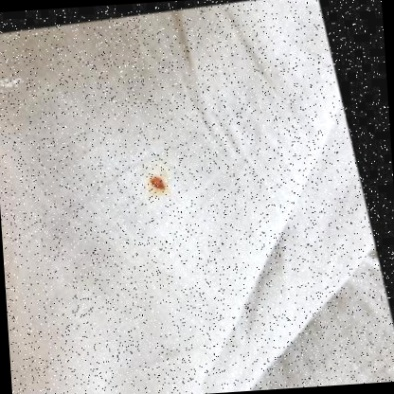kimchi: (145, 166, 168, 196)
